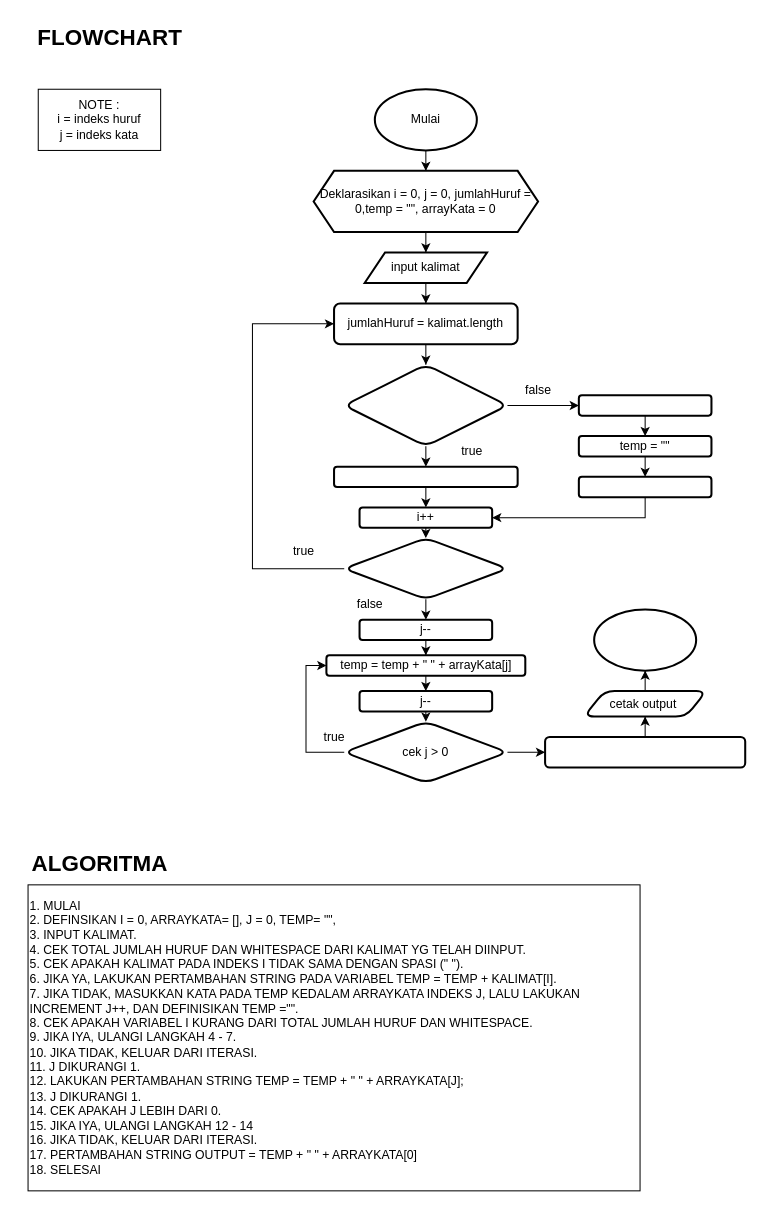
The diagram is 764 pixels wide and 1209 high, and some of its shapes have lost their labels. The shapes that lost their labels are listed below. From the top down, each one's centre as x and y in pixels, then its label:
pixel 425 405: cek kalimat[i] != " "
pixel 644 405: arrayKata[j] = temp
pixel 425 476: temp = temp + string[i]
pixel 644 486: j++
pixel 425 568: cek i < jumlahHuruf
pixel 645 639: Selesai
pixel 645 751: output = temp + " " + arrayKata[0]
